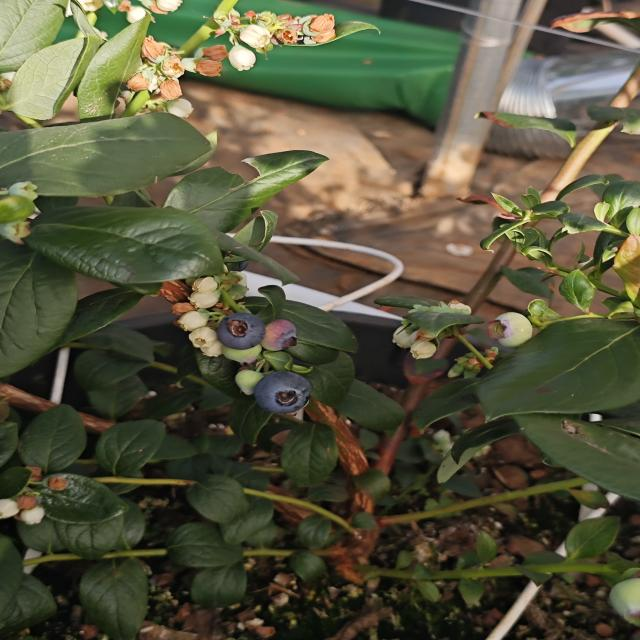ripe: (249, 366, 314, 418), (208, 309, 271, 352)
